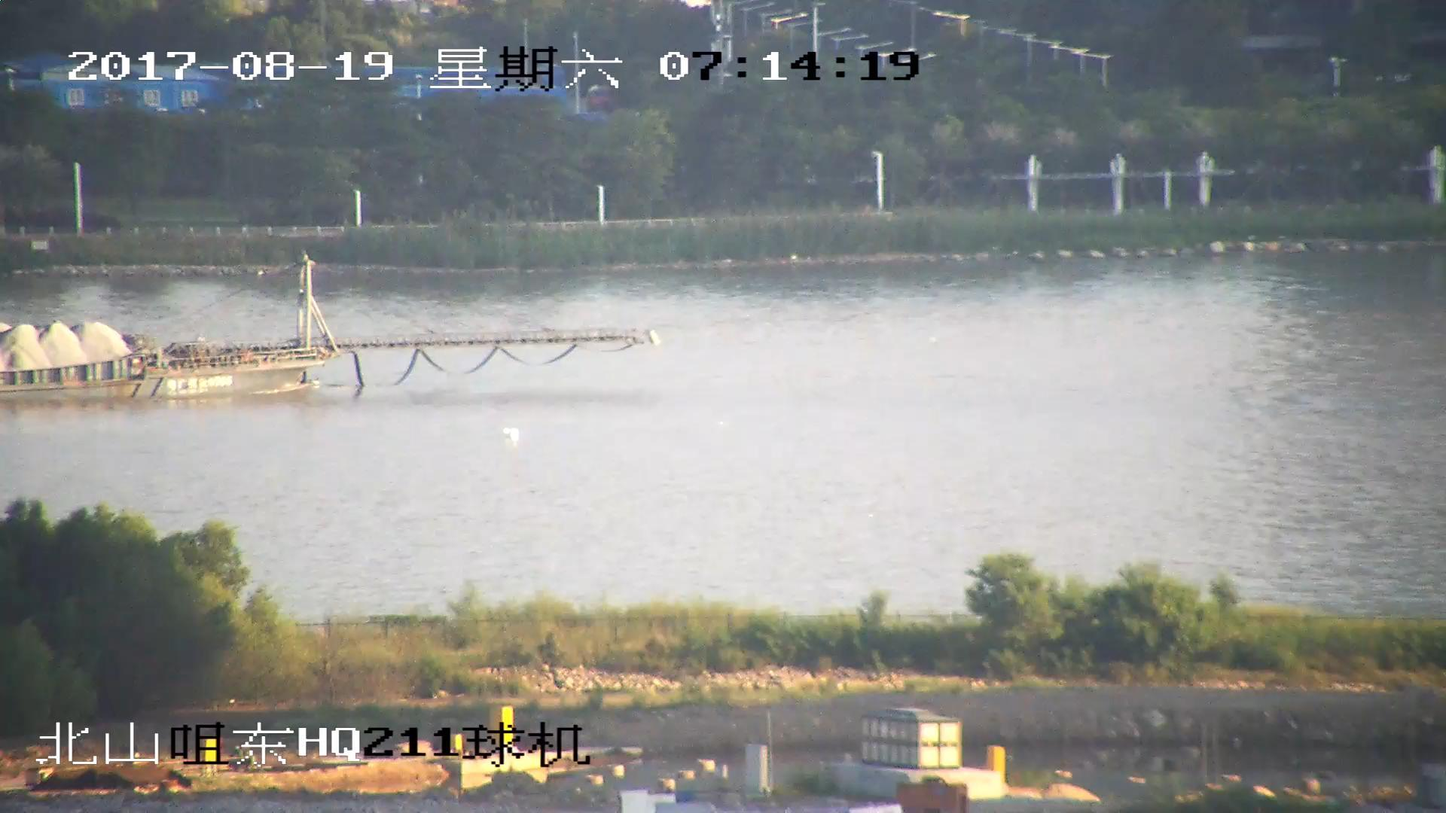ore carrier: (0, 253, 654, 401)
